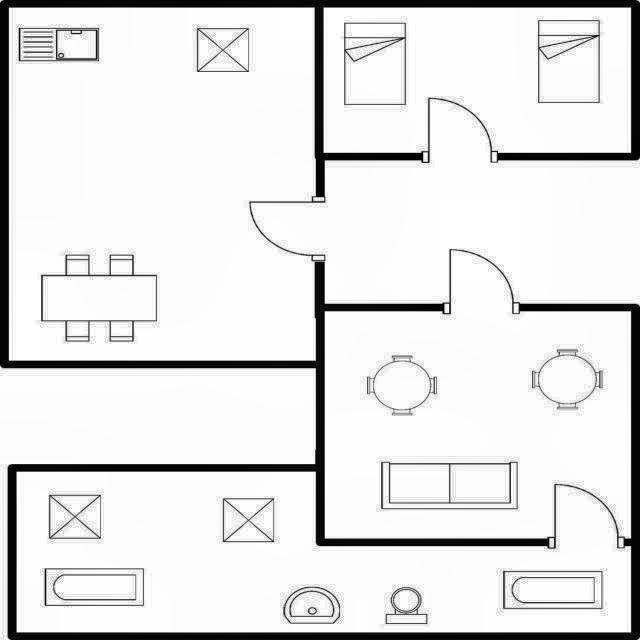room: (9, 7, 315, 360), (16, 470, 630, 632), (324, 312, 631, 538), (325, 8, 631, 152)
